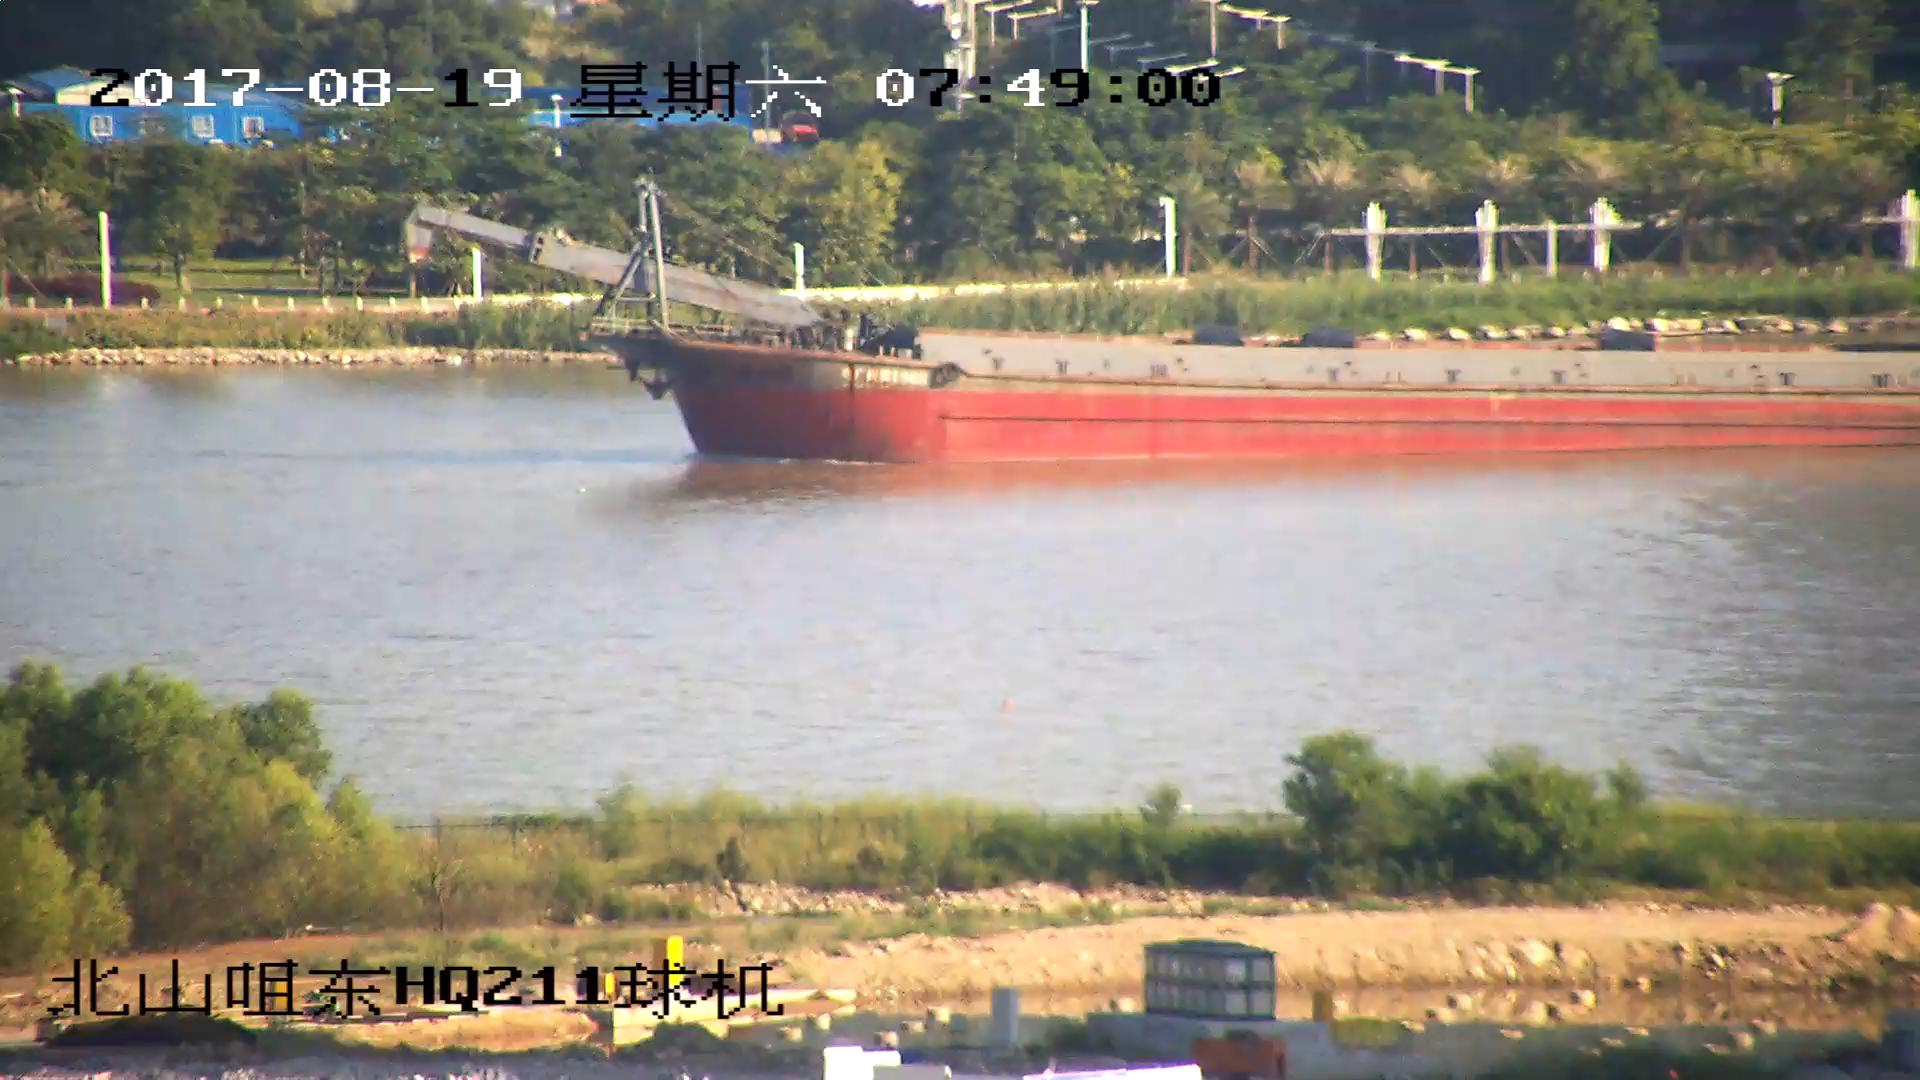bulk cargo carrier: (405, 175, 1920, 467)
